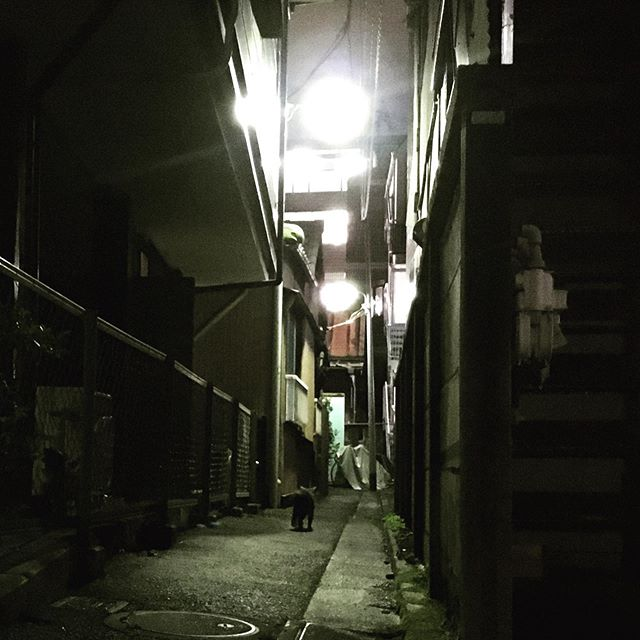building: (1, 1, 274, 577), (393, 1, 640, 626), (255, 200, 332, 495)
